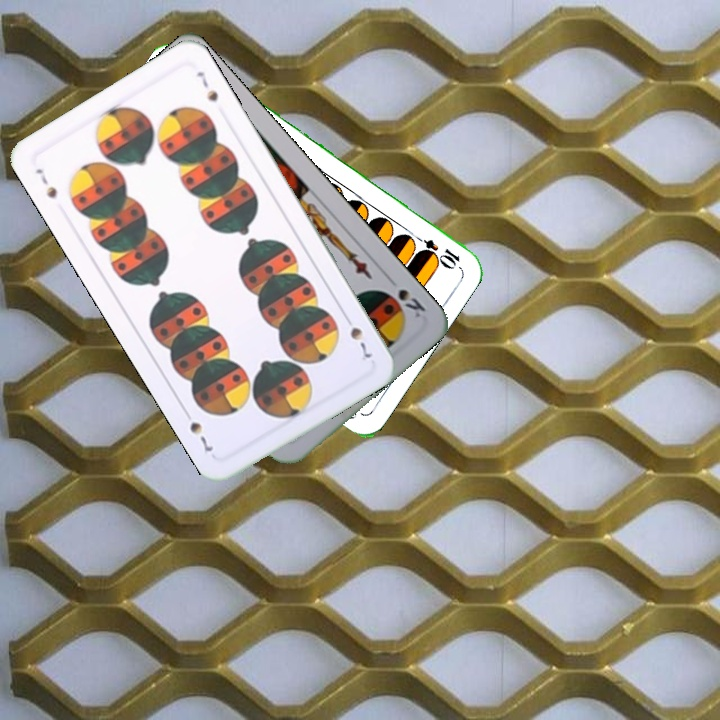E10: (407, 230, 463, 270)
S7: (340, 310, 374, 362), (31, 164, 60, 201)
SK: (383, 272, 429, 321)
